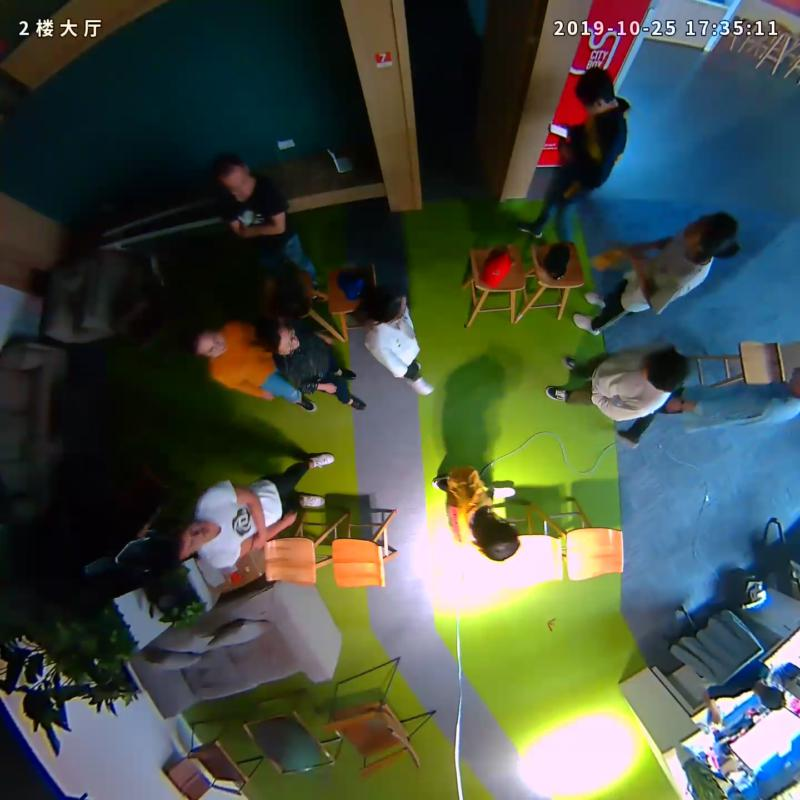head: (681, 210, 739, 257), (642, 346, 691, 392), (163, 520, 218, 560), (572, 68, 614, 118), (210, 154, 254, 201), (360, 283, 408, 325), (478, 515, 519, 561), (187, 324, 229, 359)
